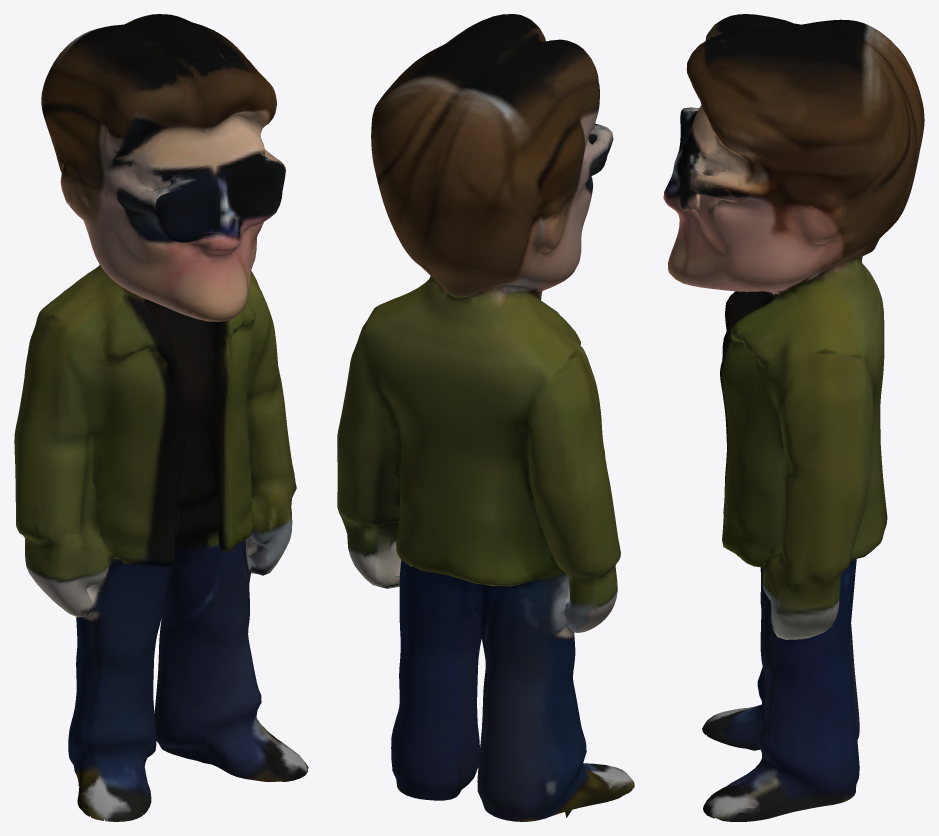
Rendered from jacopo-ps2-tex.glb.
The picture shows the model from 3 angles, left to right: view 1: azimuth 30°, elevation 25°; view 2: azimuth 150°, elevation 25°; view 3: azimuth 270°, elevation 25°; orthographic projection.
Parts seen in each view (by area): view 1: textured_mesh.obj; view 2: textured_mesh.obj; view 3: textured_mesh.obj.
Part boxes in pixels (bbox=[...]): textured_mesh.obj: bbox=[14, 14, 308, 821]; textured_mesh.obj: bbox=[337, 14, 634, 821]; textured_mesh.obj: bbox=[663, 14, 924, 821].
Size of the model in its own units: 0.3144 by 0.8225 by 0.261.
1 material, 1 textured.
